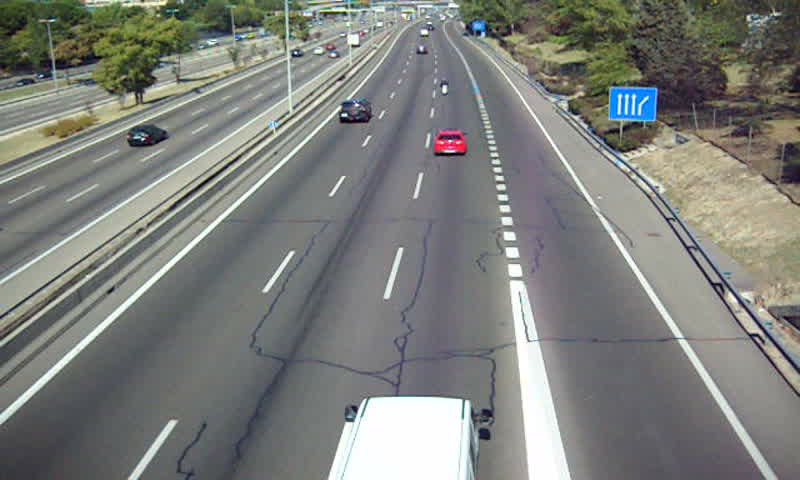car: (434, 129, 469, 155), (339, 99, 373, 122)
motorcycle: (439, 78, 451, 95)
van: (337, 396, 479, 480)
